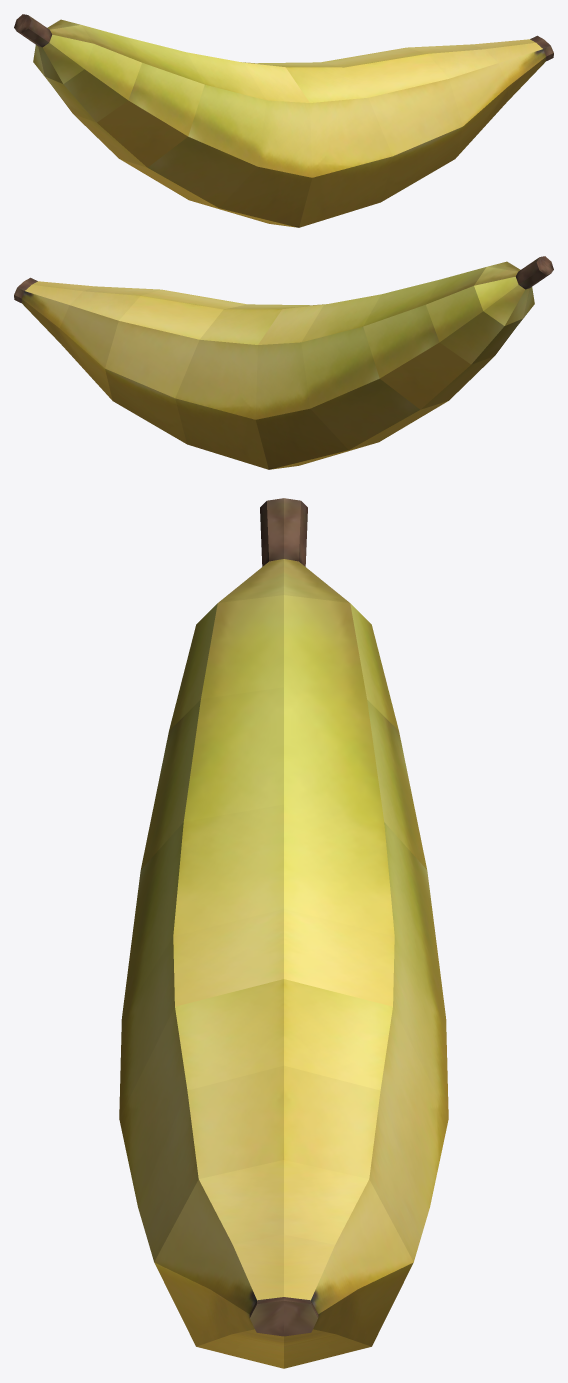
File: banana.gltf
3 views of the same model, one above another, from view 1: azimuth 30°, elevation 25°; view 2: azimuth 150°, elevation 25°; view 3: azimuth 270°, elevation 25° (orthographic). The views are drawn at different scales.
Visible parts, largest first — view 1: Cylinder; view 2: Cylinder; view 3: Cylinder.
Part boxes in pixels (left/top/right/bottom): Cylinder: left=14, top=14, right=553, bottom=227; Cylinder: left=14, top=256, right=553, bottom=469; Cylinder: left=119, top=498, right=448, bottom=1368.
Size of the model in its own units: 1.78 by 0.8584 by 0.4792.
Materials: 1 (1 with a texture image).
